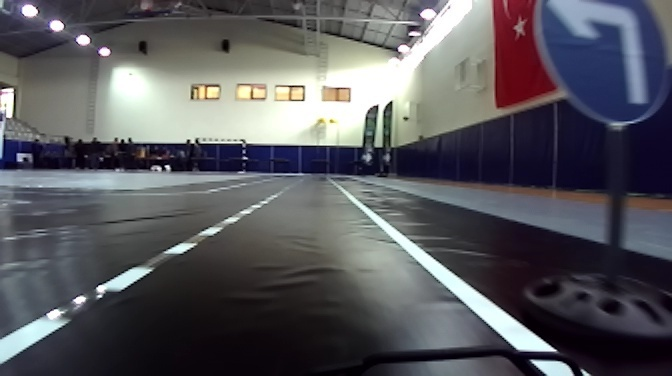sola_donus: (526, 1, 672, 131)
